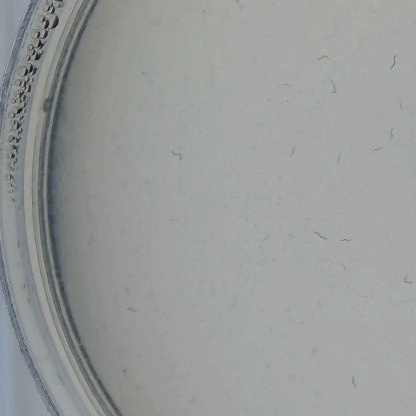worm: (335, 233, 354, 255), (169, 144, 186, 165), (386, 51, 400, 74), (348, 369, 362, 392), (400, 272, 416, 290), (309, 230, 330, 243), (314, 52, 333, 65), (230, 0, 249, 12), (332, 151, 344, 169), (372, 140, 382, 161), (329, 77, 339, 97), (122, 305, 143, 314), (277, 80, 294, 91), (387, 126, 396, 144), (286, 145, 298, 158), (397, 99, 406, 114)
